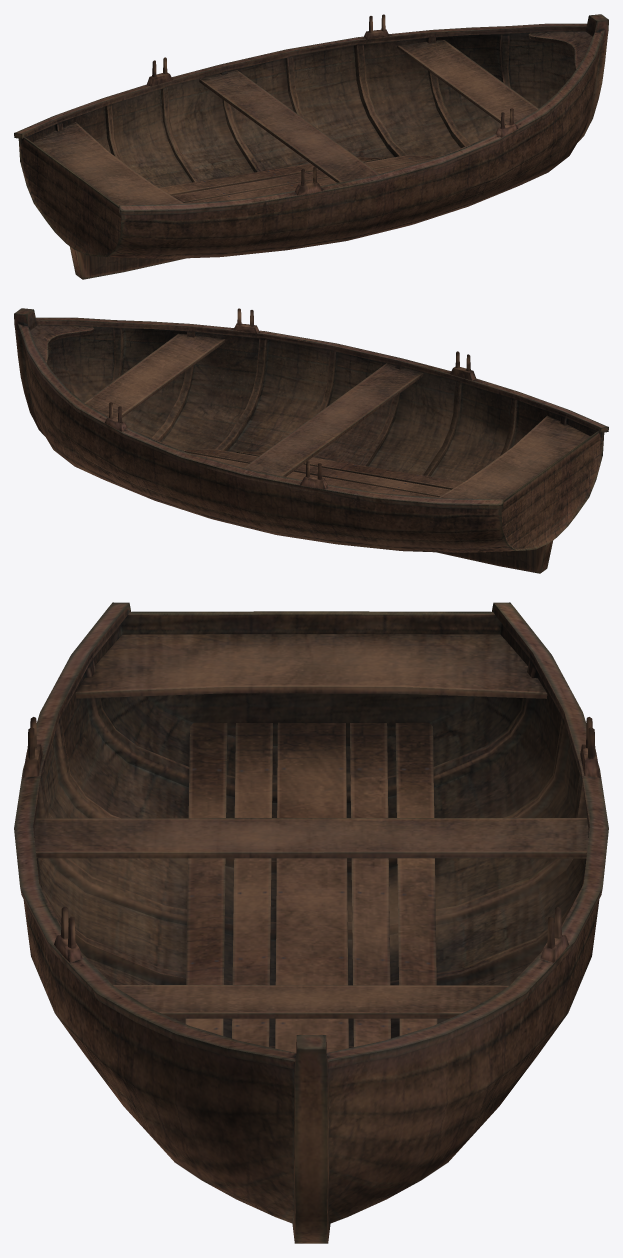
Rendered from row_boat.glb.
3 renders of one model, top to bottom at view 1: azimuth 30°, elevation 25°; view 2: azimuth 150°, elevation 25°; view 3: azimuth 270°, elevation 25°, orthographic. The views are drawn at different scales.
Visible parts, largest first — view 1: 1__0, 3__0, 2__0; view 2: 1__0, 3__0, 2__0; view 3: 1__0, 3__0, 2__0.
Boxes of the visible parts, x1,y1,x2,y2 form: 1__0: (14,14,608,279); 3__0: (32,31,592,205); 2__0: (159,155,441,203); 1__0: (14,308,608,573); 3__0: (30,325,590,499); 2__0: (181,449,463,497); 1__0: (14,602,608,1243); 3__0: (34,634,588,1018); 2__0: (185,722,437,1052).
Size of the model in its own units: 426 by 106 by 218.
1 material, 1 textured.
